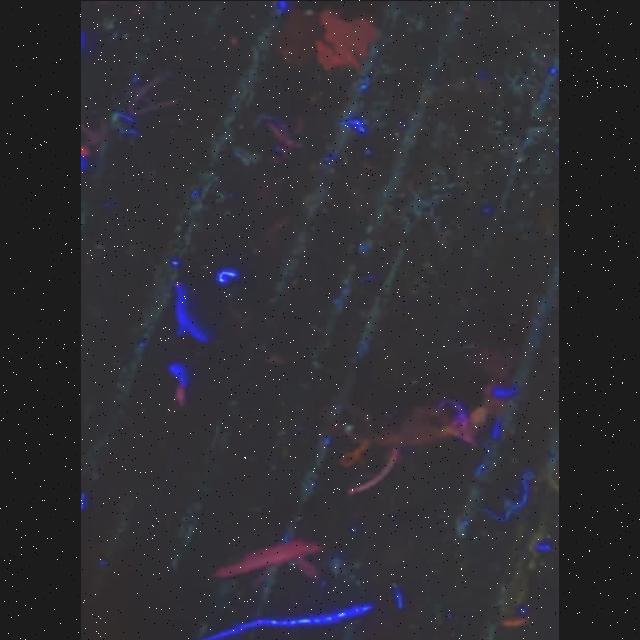Fragment: (316, 8, 378, 68)
